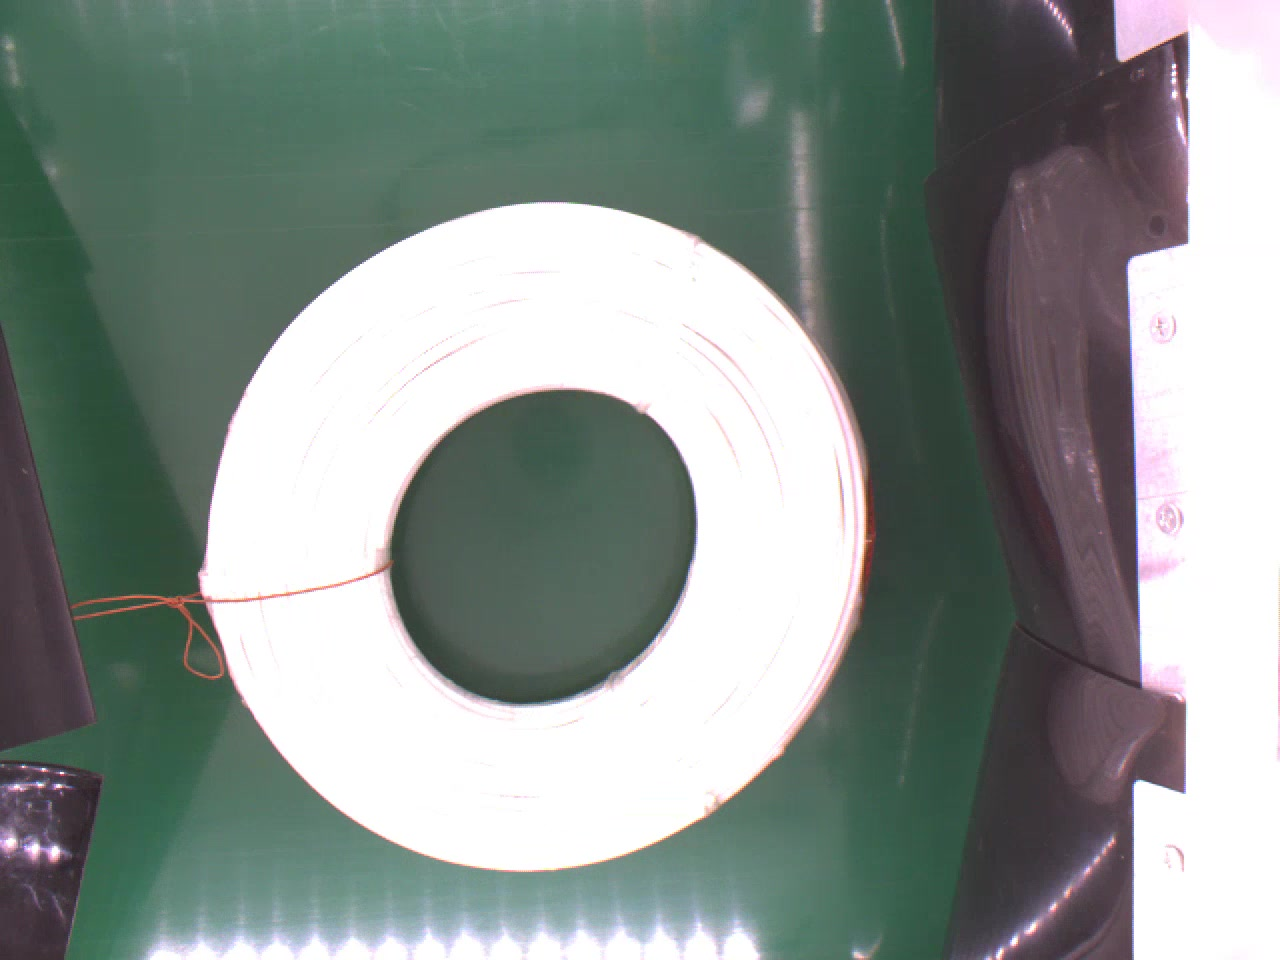white: (207, 201, 891, 884)
